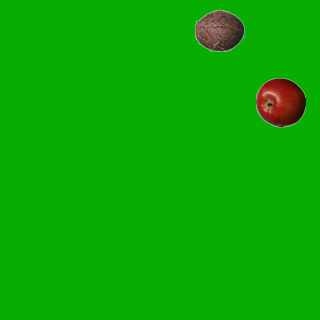Apple Braeburn: (255, 77, 305, 127)
Cocos: (194, 5, 244, 55)
